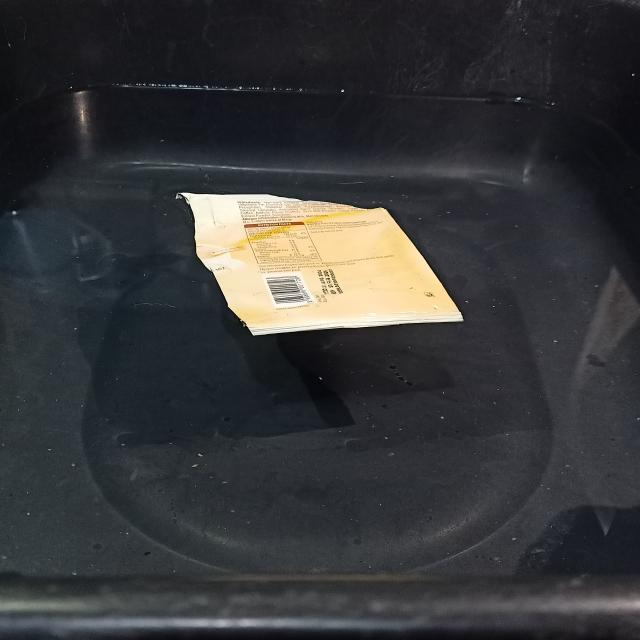Plastic Wrapper: (178, 192, 462, 335)
